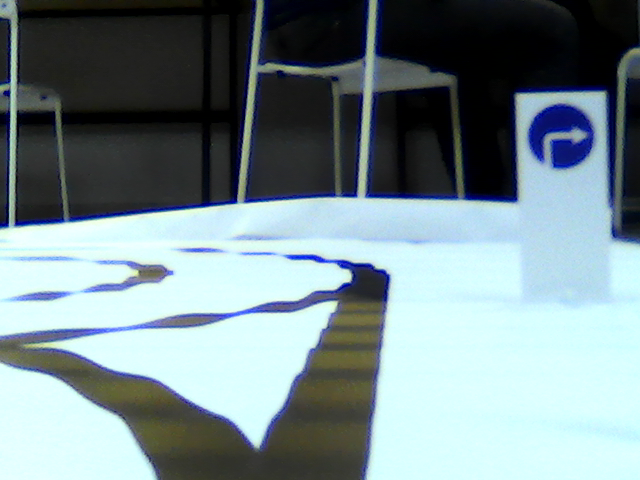Right: (527, 101, 597, 171)
